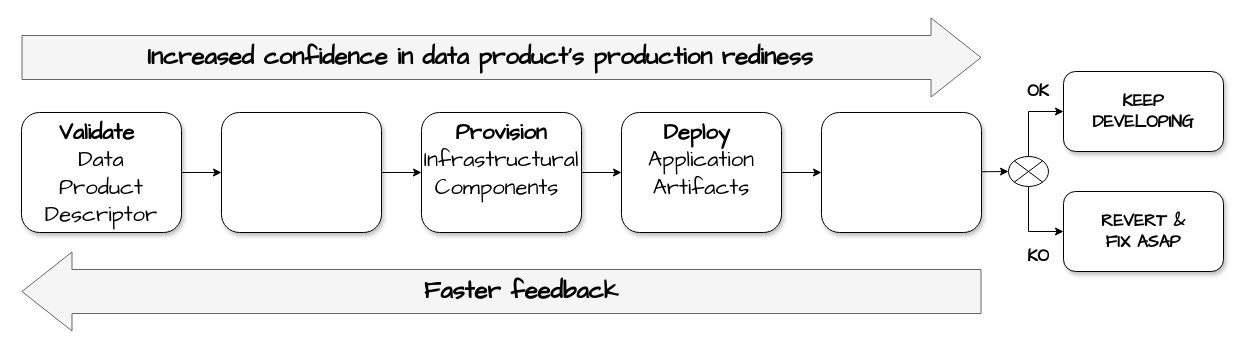
Image size: 1247x348. Some labels were removed from this diagram. Here are the shapes that lost their labels. From the top down, the centre of each, then its label:
pixel 302 174: Build Application Components
pixel 902 174: Execute unit and integration tests
